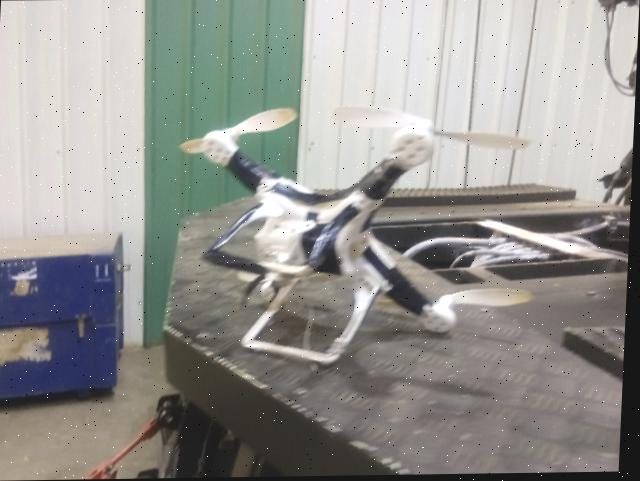drone: (187, 89, 509, 369)
